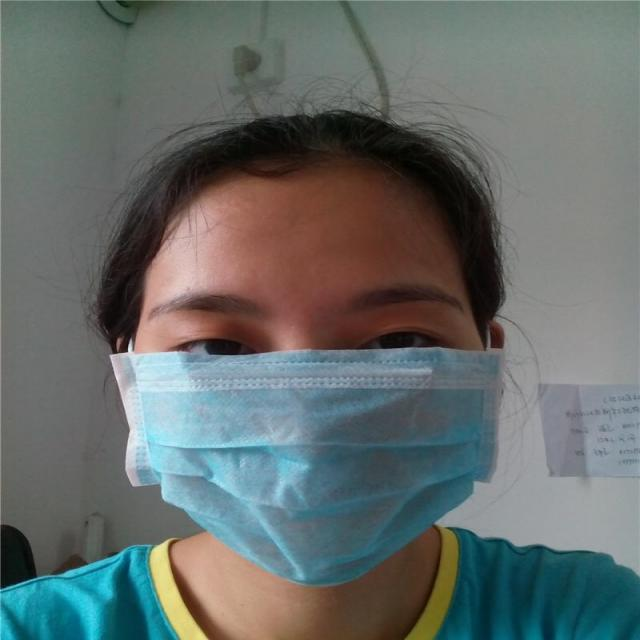mask: (137, 190, 487, 587)
